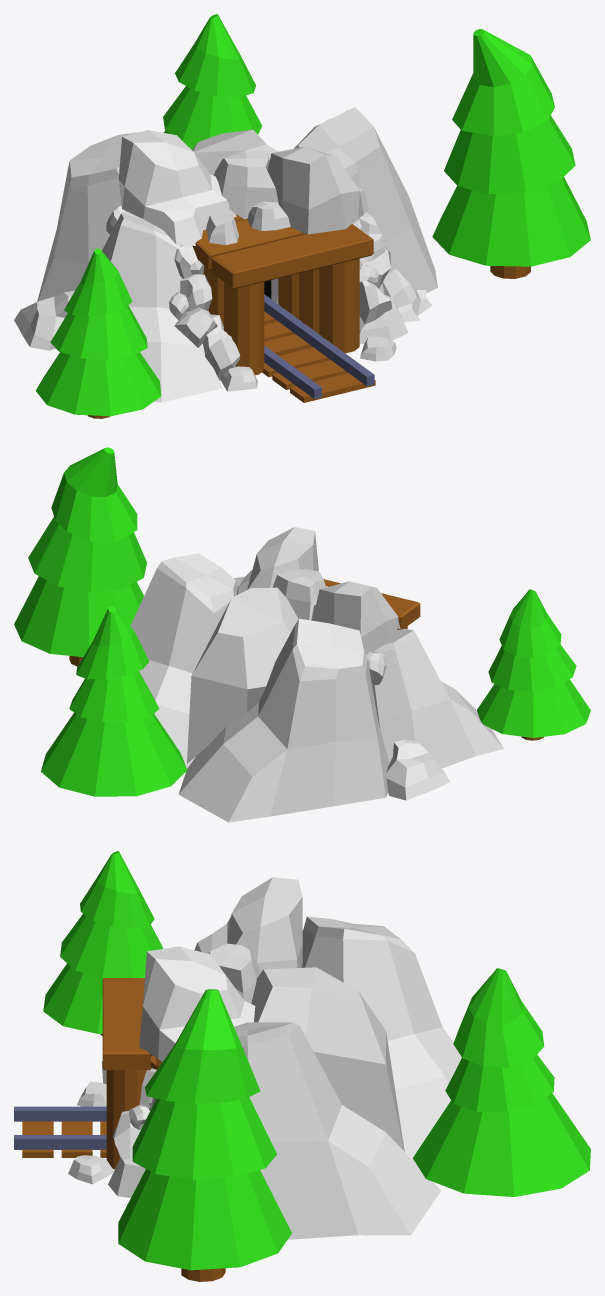
Rendered from mine.glb.
The picture shows the model from 3 angles, top to bottom: view 1: azimuth 30°, elevation 25°; view 2: azimuth 150°, elevation 25°; view 3: azimuth 270°, elevation 25°; orthographic projection. The views are drawn at different scales.
Parts seen in each view (by area): view 1: Cube.025, Cylinder.007, Cylinder.012, Cylinder.004, Cylinder.019, Cube.008, Cube.020, Cube.014; view 2: Cube.025, Cylinder.007, Cylinder.019, Cylinder.012, Cube.008; view 3: Cube.025, Cylinder.007, Cylinder.019, Cylinder.012, Cube.008, Cube.014, Cylinder.004, Cube.020.
Part boxes in pixels (x1,y1,x2,y2): Cube.025: (14,107,437,402); Cylinder.007: (432,29,590,266); Cylinder.012: (35,248,161,416); Cylinder.004: (202,258,359,375); Cylinder.019: (163,14,261,149); Cube.008: (192,214,373,288); Cube.020: (262,311,375,402); Cube.014: (264,294,374,399); Cube.025: (130,527,503,822); Cylinder.007: (14,447,146,657); Cylinder.019: (41,606,187,796); Cylinder.012: (477,589,590,737); Cube.008: (323,579,420,629); Cube.025: (68,877,461,1239); Cylinder.007: (118,989,291,1270); Cylinder.019: (413,968,590,1196); Cylinder.012: (43,851,162,1033); Cube.008: (102,978,162,1070); Cube.014: (14,1106,106,1149); Cylinder.004: (106,1054,157,1169); Cube.020: (22,1121,106,1157).
Size of the model in its own units: 19.54 by 8.07 by 15.28.
